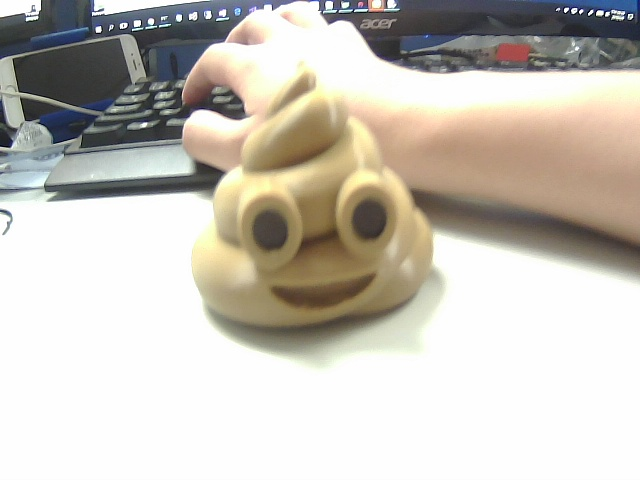shit: (192, 56, 444, 340)
